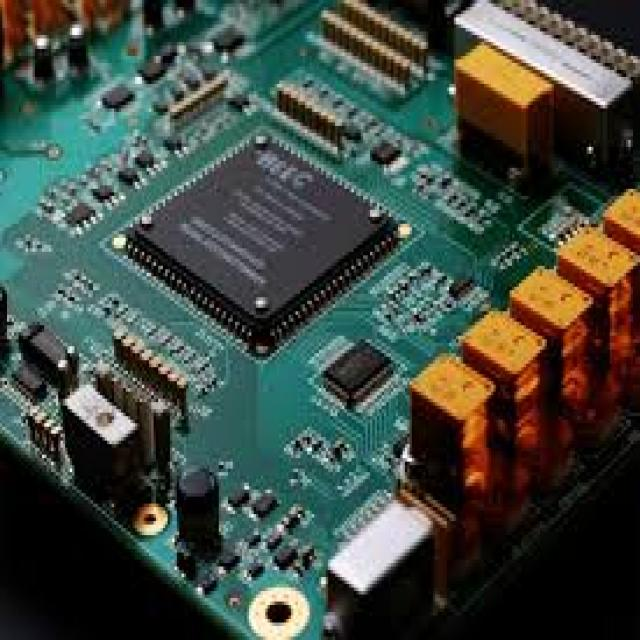pcb: (0, 0, 638, 637), (402, 182, 638, 528), (451, 0, 637, 178), (451, 38, 554, 178), (311, 0, 428, 101), (58, 381, 140, 483)
